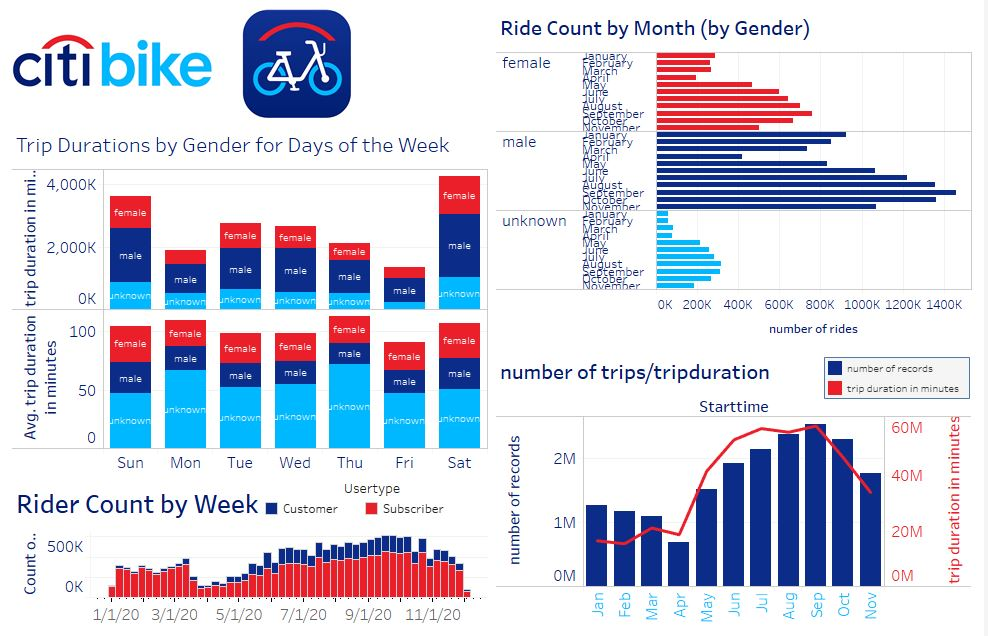

Layout of this report page (visuals, bound fields, positions):
{"tool":"tableau","page":{"name":"Dashboard 3","canvas":[984,642],"ordinal":1},"visuals":[{"type":"worksheet","box":[0,0,984,642]},{"type":"worksheet","param":"horz","box":[8,8,968,626]},{"type":"worksheet","param":"horz","box":[8,8,968,626]},{"type":"worksheet","param":"horz","box":[8,8,968,626]},{"type":"worksheet","param":"horz","box":[8,8,968,626]},{"type":"worksheet","box":[8,8,968,626]},{"type":"worksheet","param":"E:/2020 citibike/citibike-new.jpg","box":[8,8,484,116.6]},{"type":"worksheet","title":"ride count by month by user","mark":"Bar","rows":["Calculation_1490691542356111362"],"cols":["Calculation_1490691542355189761"],"box":[492,8,484,344.1]},{"type":"worksheet","title":"duration by day of week/gender","mark":"Bar","rows":["Calculation_1490691541975056384","Calculation_1490691541975056384"],"cols":["starttime"],"box":[8,124.6,484,356.1]},{"type":"worksheet","title":"number of trips/tripduration","mark":"Automatic","rows":["Calculation_1490691542355189761","Calculation_1490691541975056384"],"cols":["starttime"],"box":[492,352.1,484,281.9]},{"type":"worksheet","title":"number of trips/tripduration","mark":"Automatic","rows":["Calculation_1490691542355189761","Calculation_1490691541975056384"],"cols":["starttime"],"param":"[federated.18ommw50hgipqt157vt9g0hmbfxk].[:Measure Names]","box":[824,360,146,42]},{"type":"worksheet","title":"rider count by week 1/20-11/20","mark":"Bar","rows":["usertype"],"cols":["Calculation_1490691542356111362"],"box":[8,480.7,484,153.3]},{"type":"worksheet","title":"rider count by week 1/20-11/20","mark":"Bar","rows":["usertype"],"cols":["Calculation_1490691542356111362"],"param":"[federated.18ommw50hgipqt157vt9g0hmbfxk].[none:usertype:nk]","box":[260.8,481.5,222.4,38.5]}]}

Visuals, with their boxes in screenshot pixels (x1, y1, x2, y2), scaled from the page's 984x642 canvas onto the 988x636 screenshot:
worksheet: rect(0, 0, 987, 635)
worksheet: rect(8, 8, 980, 628)
worksheet: rect(8, 8, 980, 628)
worksheet: rect(8, 8, 980, 628)
worksheet: rect(8, 8, 980, 628)
worksheet: rect(8, 8, 980, 628)
worksheet: rect(8, 8, 494, 123)
"ride count by month by user" worksheet (Bar marks): rect(494, 8, 980, 349)
"duration by day of week/gender" worksheet (Bar marks): rect(8, 123, 494, 476)
"number of trips/tripduration" worksheet: rect(494, 349, 980, 628)
"number of trips/tripduration" worksheet: rect(827, 357, 974, 398)
"rider count by week 1/20-11/20" worksheet (Bar marks): rect(8, 476, 494, 628)
"rider count by week 1/20-11/20" worksheet (Bar marks): rect(262, 477, 485, 515)
